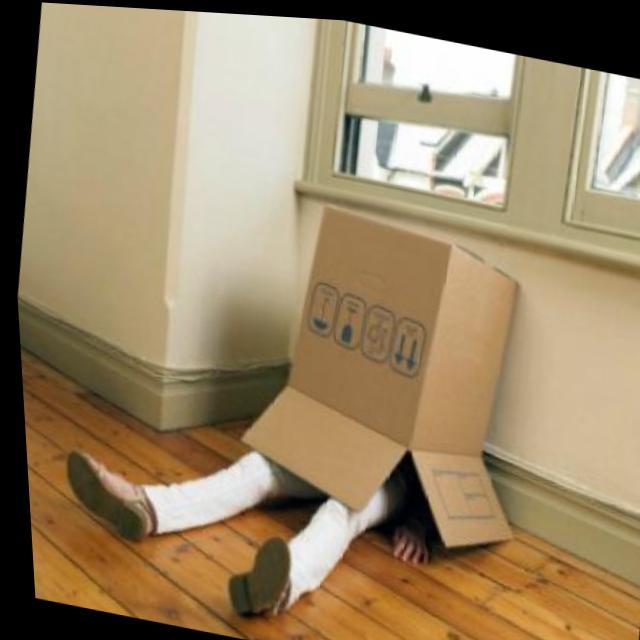box: (209, 178, 552, 564)
